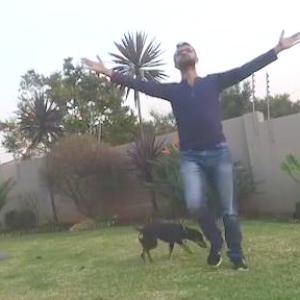takeoff: (98, 43, 295, 264)
